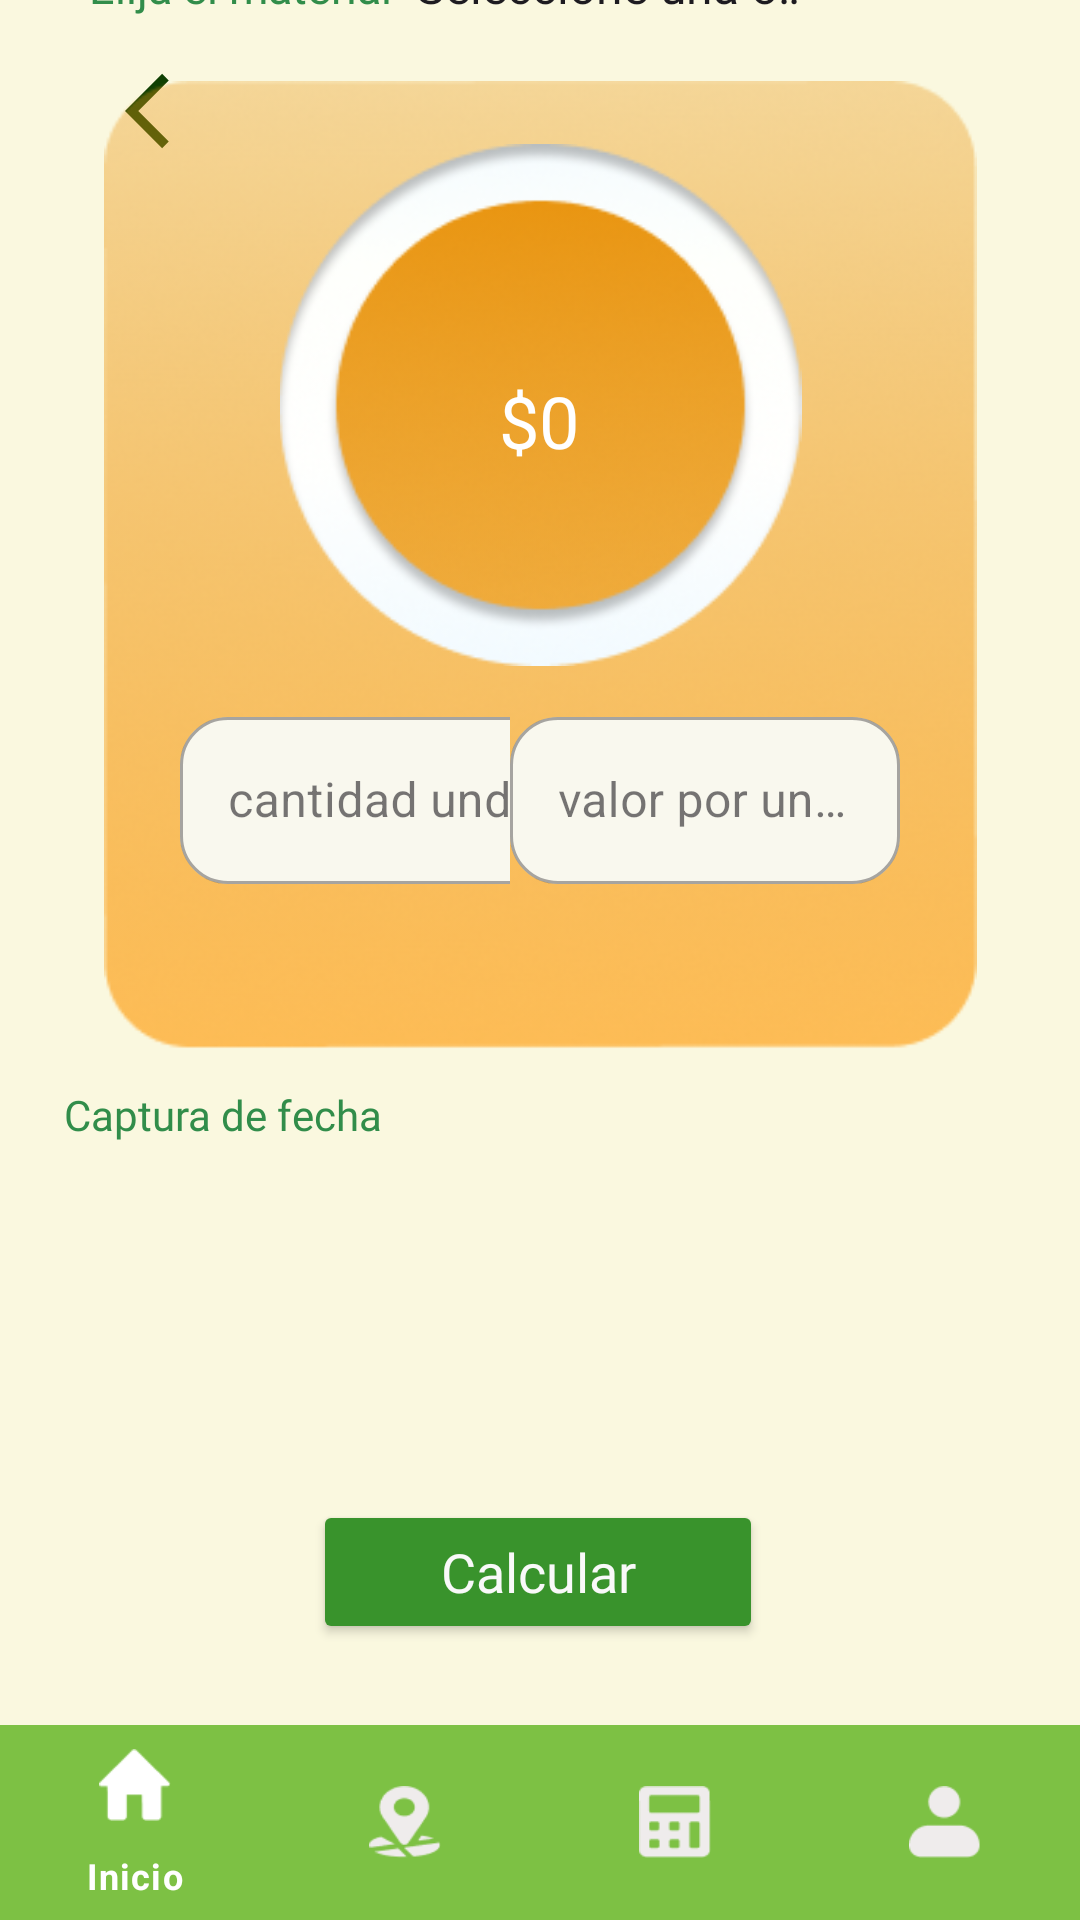

Icons on this 1080x1920 Android screen, each with the point to tap as point (x, y):
arrow back: point (170, 111)
